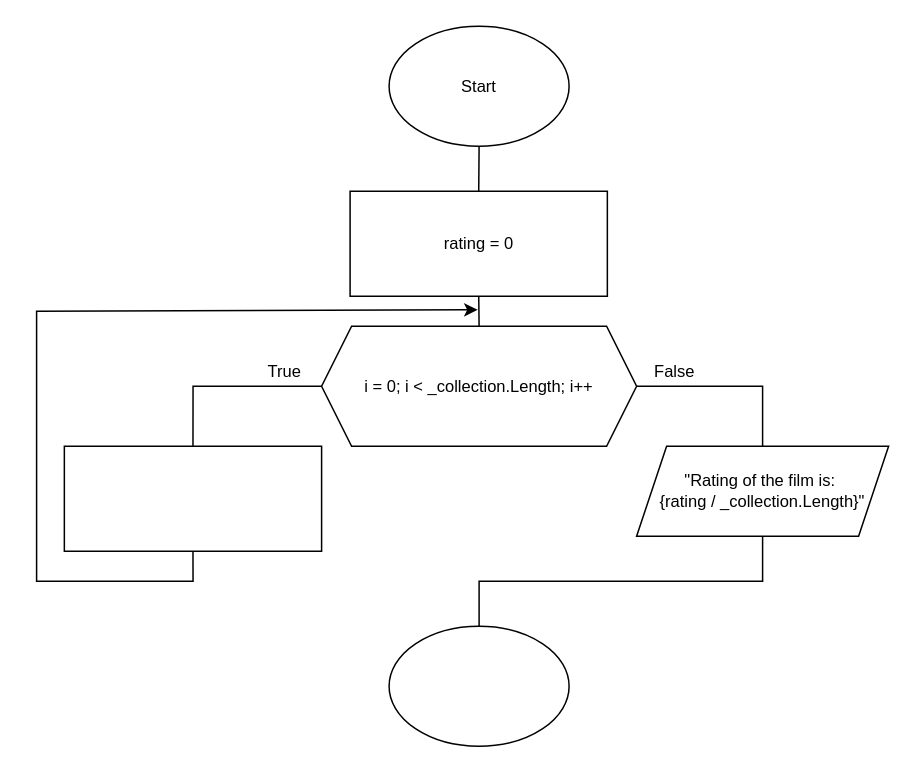
The diagram is 915 pixels wide and 773 high, and some of its shapes have lost their labels. Here are the shapes that lost their labels. From the top down, the centre of each, then its label:
the point at 192,498: rating += collection[i].GetRating()
the point at 478,685: End
